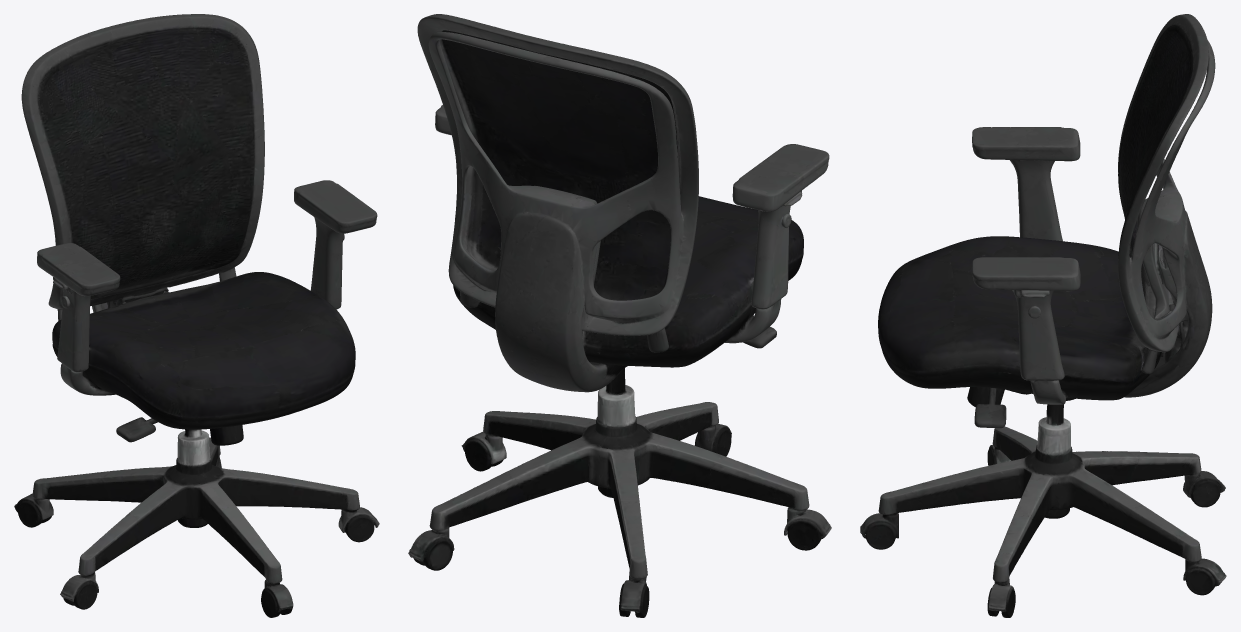
The model's file is chair.glb.
The picture shows the model from 3 angles, left to right: view 1: azimuth 30°, elevation 25°; view 2: azimuth 150°, elevation 25°; view 3: azimuth 270°, elevation 25°; orthographic projection. The views are drawn at different scales.
Bounding box in the file's own units: 1.31 × 1.9 × 1.27.
1 material, 1 textured.
